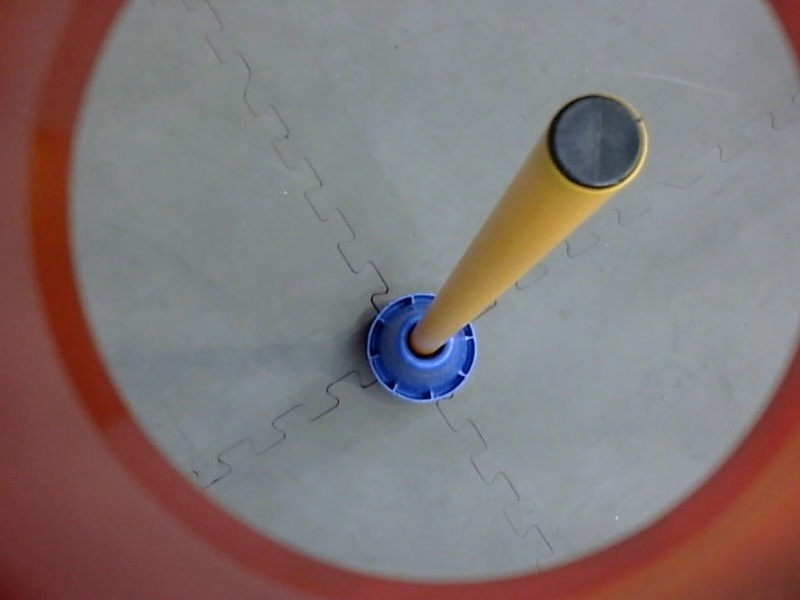tip: (543, 87, 651, 194)
